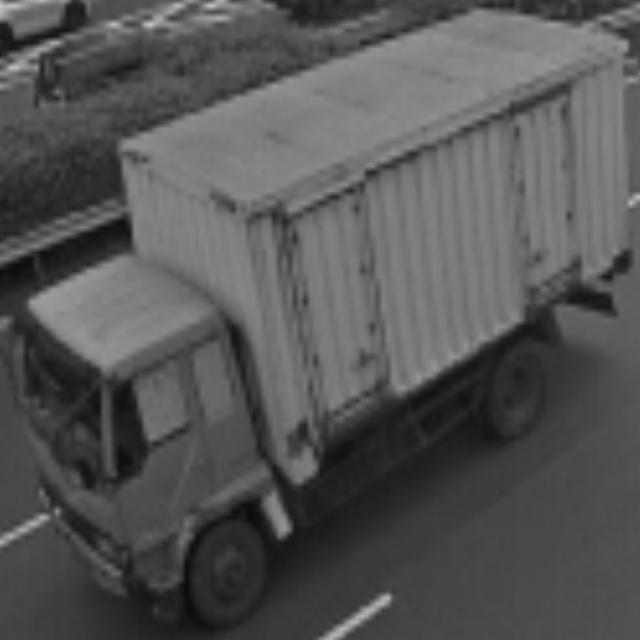truck: (1, 235, 304, 620)
